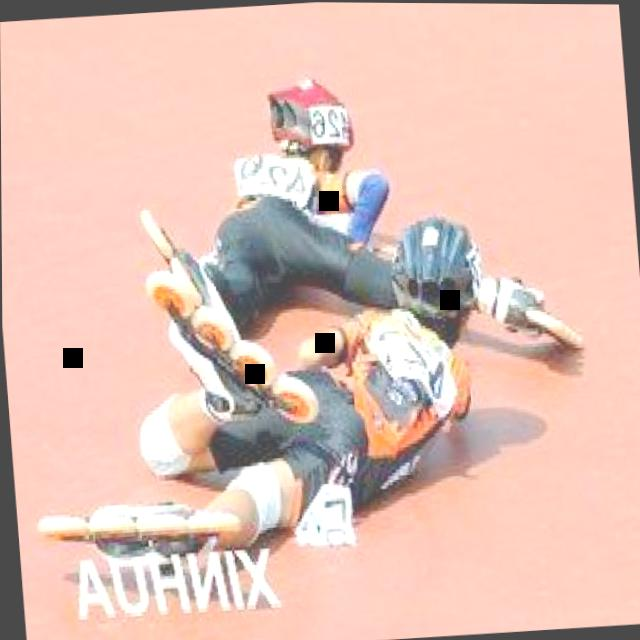Fall-Detected: (101, 209, 490, 574)
